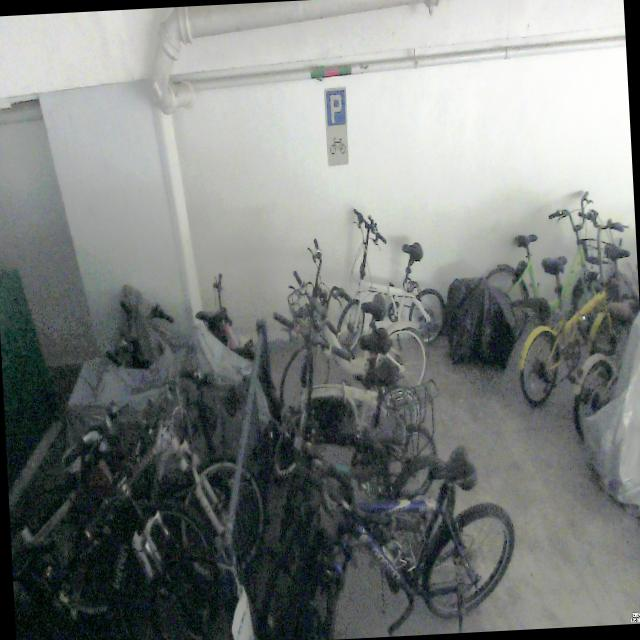bike: (29, 363, 267, 600), (4, 394, 224, 640), (248, 440, 518, 640), (271, 388, 461, 564), (272, 230, 429, 404), (266, 304, 424, 476), (510, 205, 640, 405), (478, 188, 622, 362), (331, 203, 449, 355)
